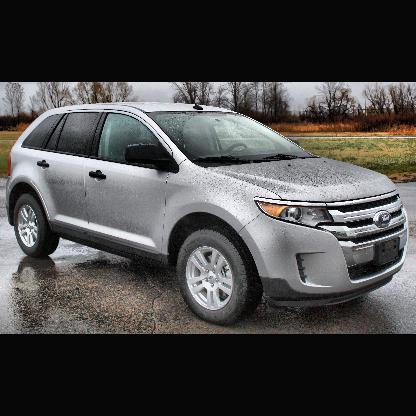Ford Edge SUV 2012: (4, 85, 411, 318)
